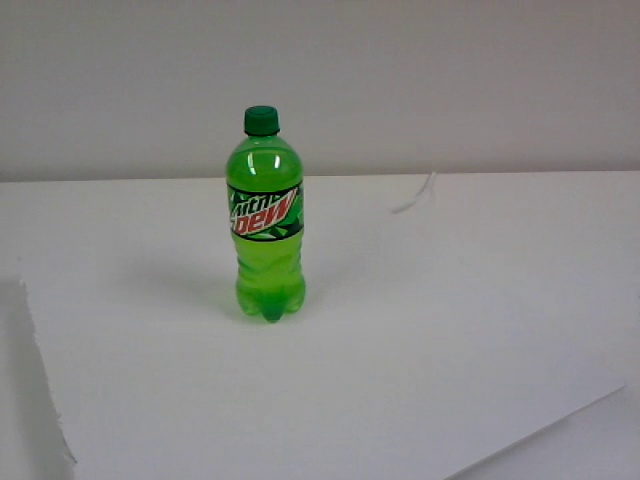botolplastik: (227, 107, 303, 322)
